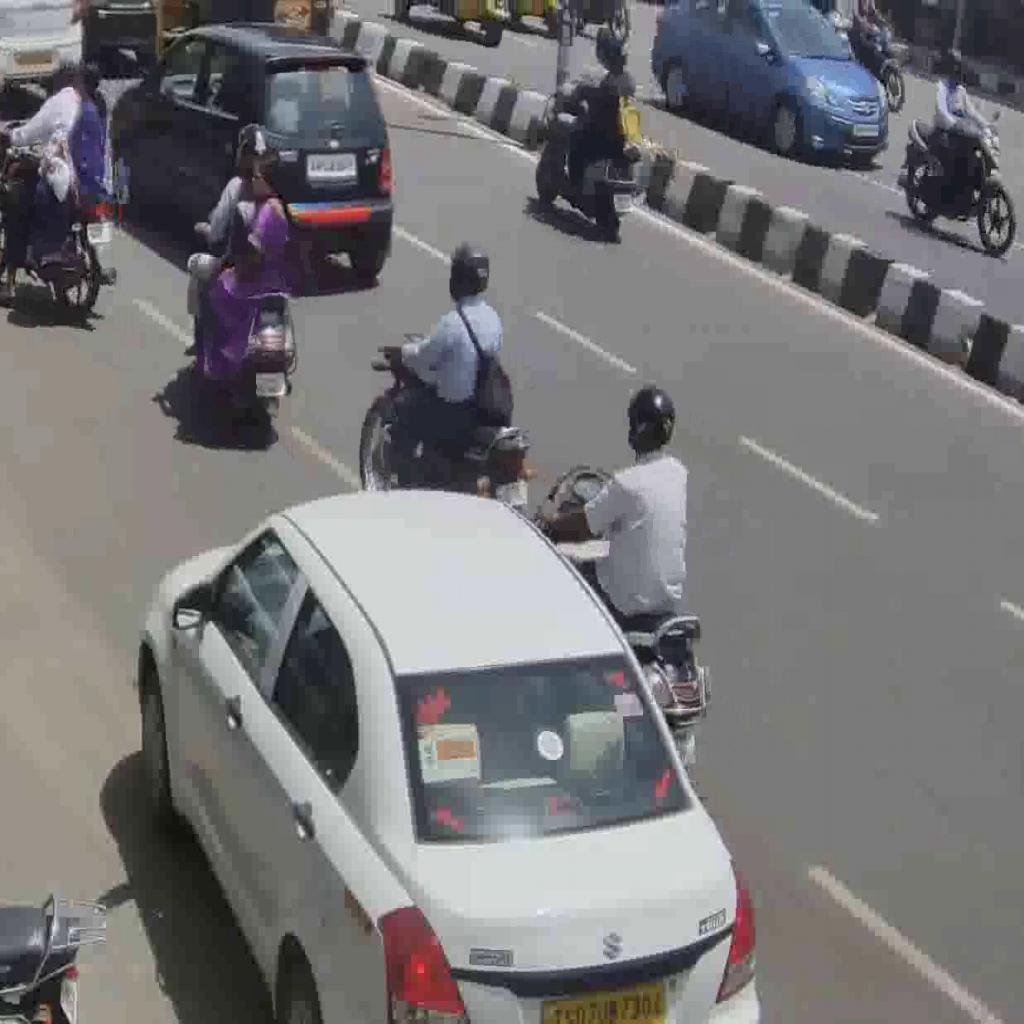helmet: (528, 460, 708, 772), (357, 335, 536, 514), (194, 200, 298, 439), (1, 123, 119, 319), (534, 75, 636, 236)
